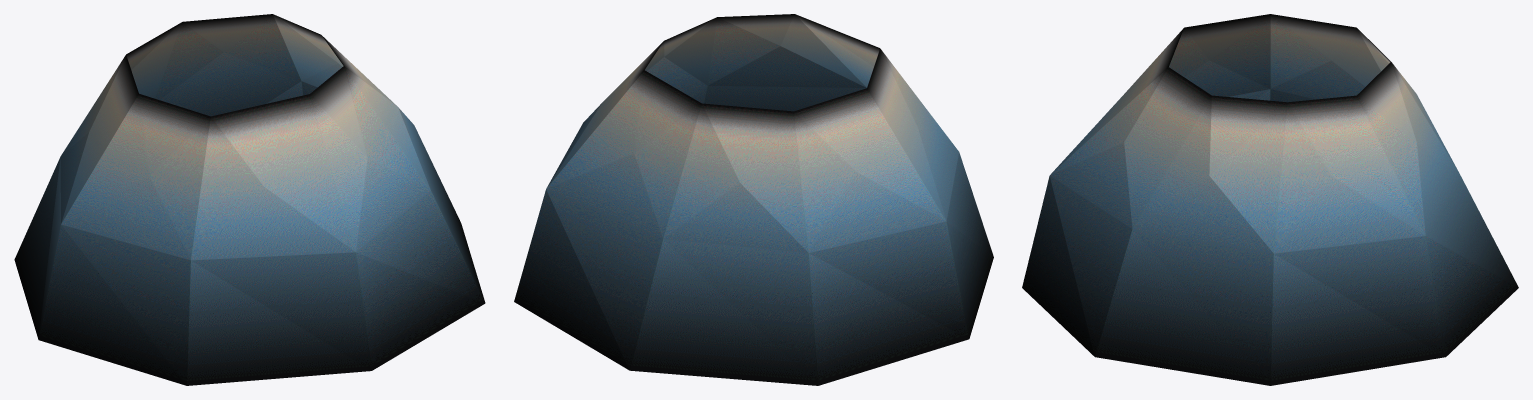
The model's file is sky.obj.
3 renders of one model, left to right at view 1: azimuth 30°, elevation 25°; view 2: azimuth 150°, elevation 25°; view 3: azimuth 270°, elevation 25°, orthographic.
Visible parts, largest first — view 1: sky_h; view 2: sky_h; view 3: sky_h.
Part boxes in pixels (x1,y1,x2,y2): sky_h: [14, 14, 485, 385]; sky_h: [514, 14, 993, 385]; sky_h: [1022, 14, 1518, 385].
Bounding box in the file's own units: 6477 × 3348 × 6478.
1 material, 1 textured.
